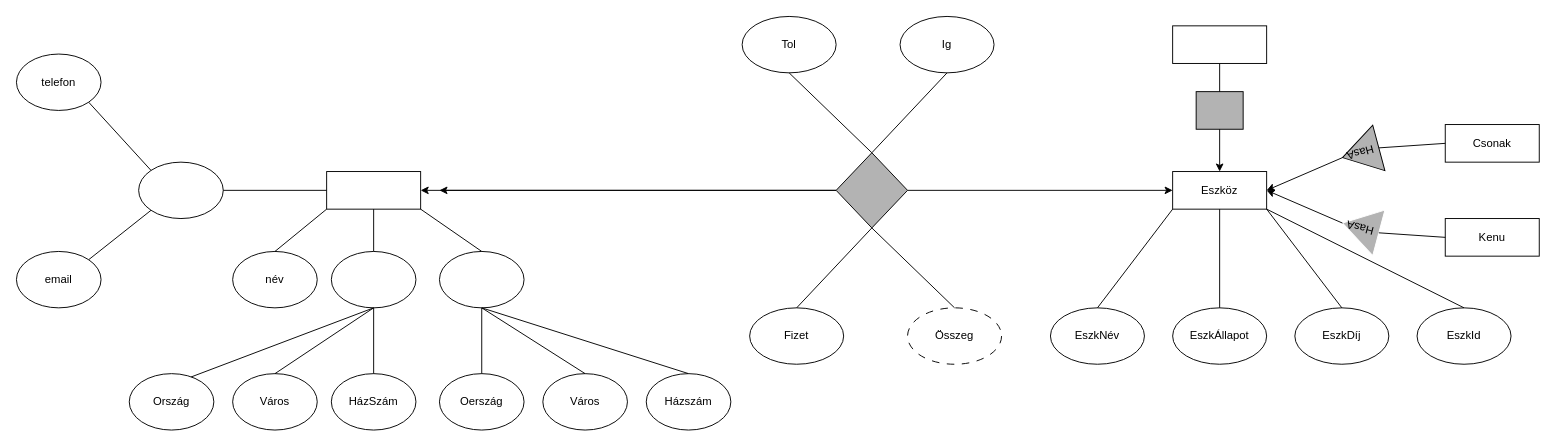
Image size: 1556x447. Some labels were removed from this diagram. Each missing label, with the centre of its shape:
Csonakház: the point at 1219,44
elérhetőség: the point at 180,190
HAS_A: the point at 1219,110
Kölcsönzés: the point at 871,190
lakhely: the point at 373,279
Személy: the point at 373,190
szállításicím: the point at 481,279
